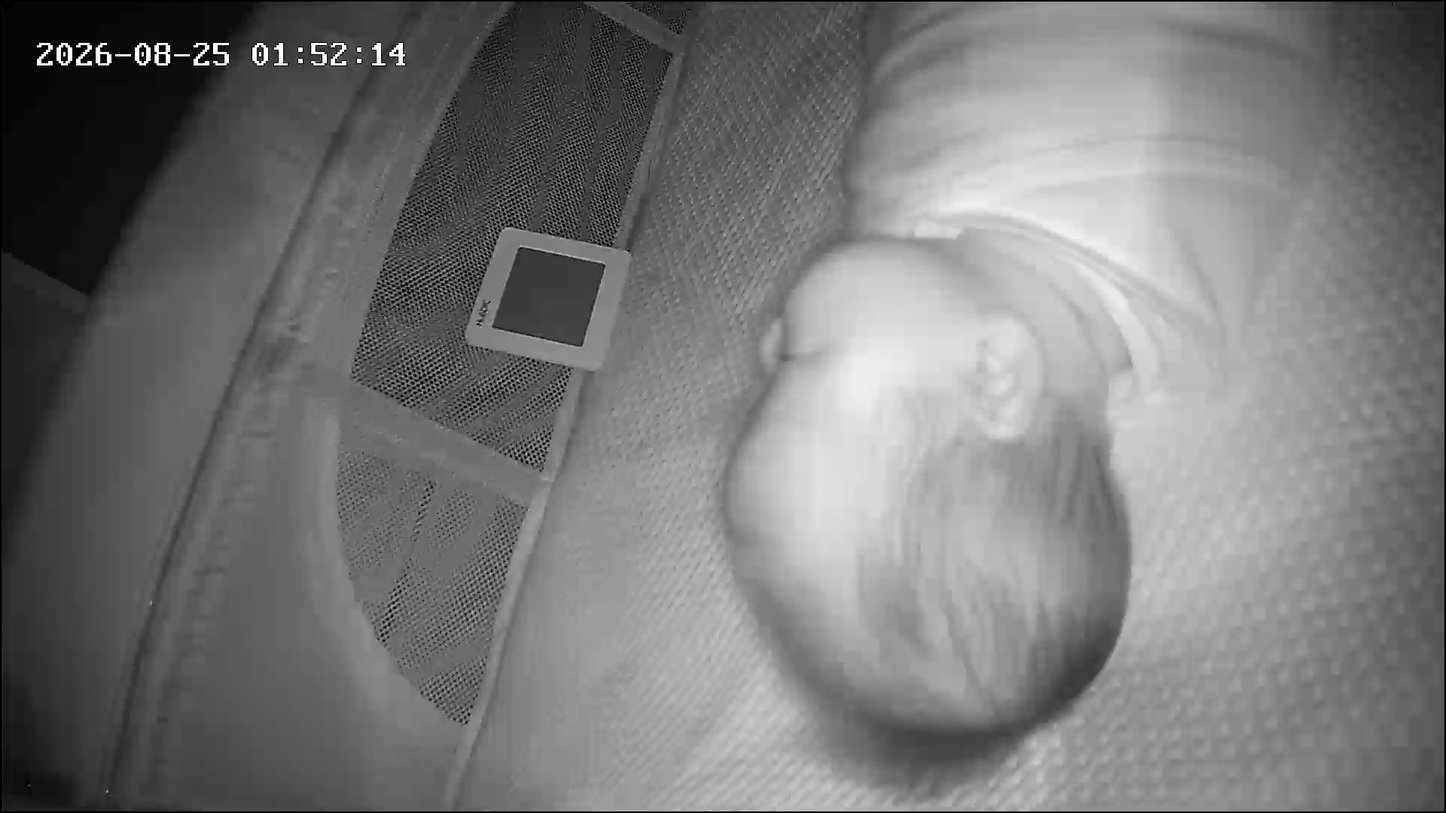baby: (693, 1, 1379, 795)
baby_face: (706, 217, 1155, 775)
